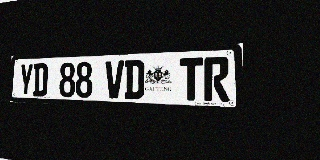8: (75, 61, 93, 98), (59, 62, 76, 97)
D: (124, 60, 144, 99), (33, 63, 48, 97)
R: (204, 57, 229, 102)
T: (179, 57, 203, 101)
V: (105, 60, 124, 99)
Y: (19, 64, 33, 96)
